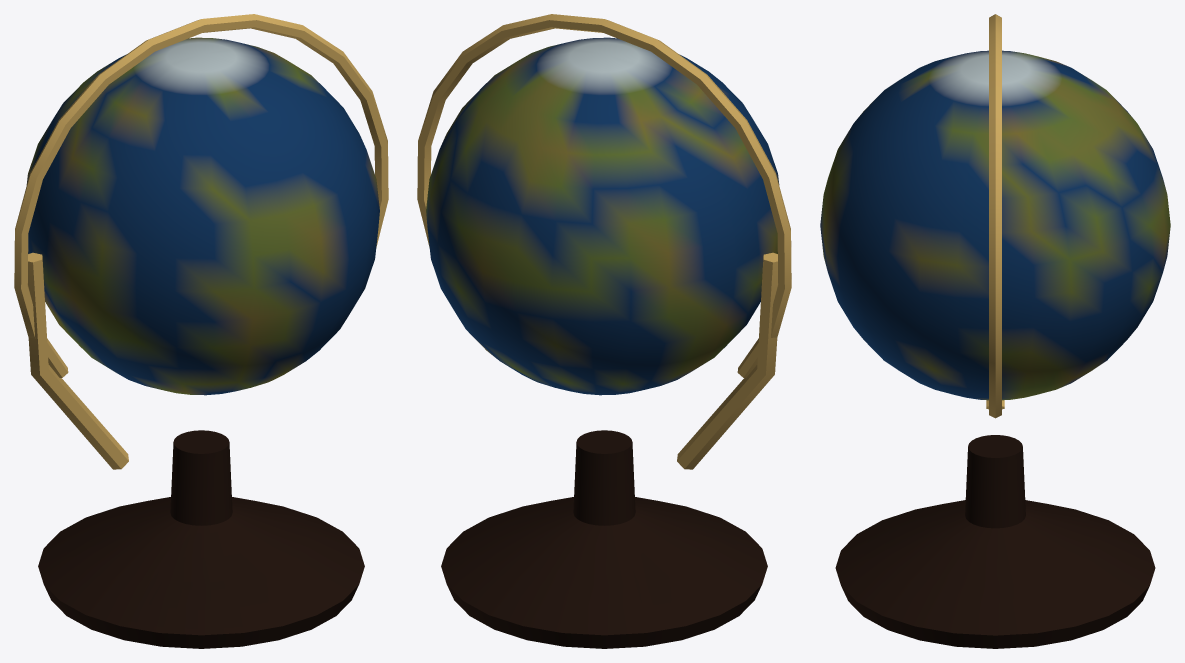
File: school-globe.glb
The picture shows the model from 3 angles, left to right: view 1: azimuth 30°, elevation 25°; view 2: azimuth 150°, elevation 25°; view 3: azimuth 270°, elevation 25°; orthographic projection. The views are drawn at different scales.
Visible parts, largest first — view 1: sphere__lacquer, base__wood, axis__brass; view 2: sphere__lacquer, base__wood, axis__brass; view 3: sphere__lacquer, base__wood, axis__brass.
Boxes of the visible parts, x1=… form: sphere__lacquer: x1=26, y1=37, x2=379, y2=395; base__wood: x1=38, y1=430, x2=364, y2=648; axis__brass: x1=14, y1=14, x2=388, y2=469; sphere__lacquer: x1=426, y1=37, x2=779, y2=395; base__wood: x1=441, y1=430, x2=767, y2=648; axis__brass: x1=417, y1=14, x2=791, y2=469; sphere__lacquer: x1=820, y1=50, x2=1170, y2=400; base__wood: x1=835, y1=435, x2=1155, y2=648; axis__brass: x1=986, y1=14, x2=1004, y2=418.
Size of the model in its own units: 0.2776 by 0.4 by 0.23.
